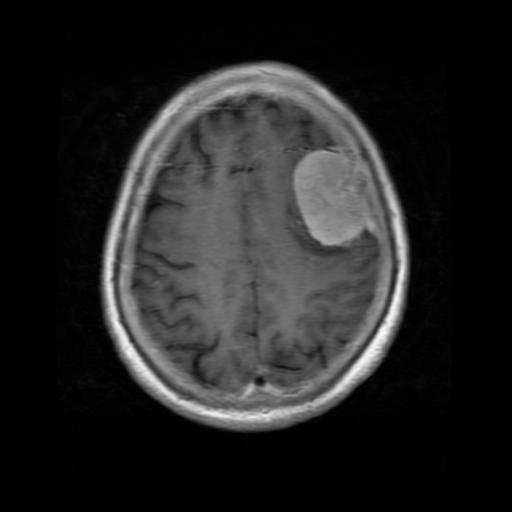Tumour-Meningioma: (272, 134, 384, 259)
